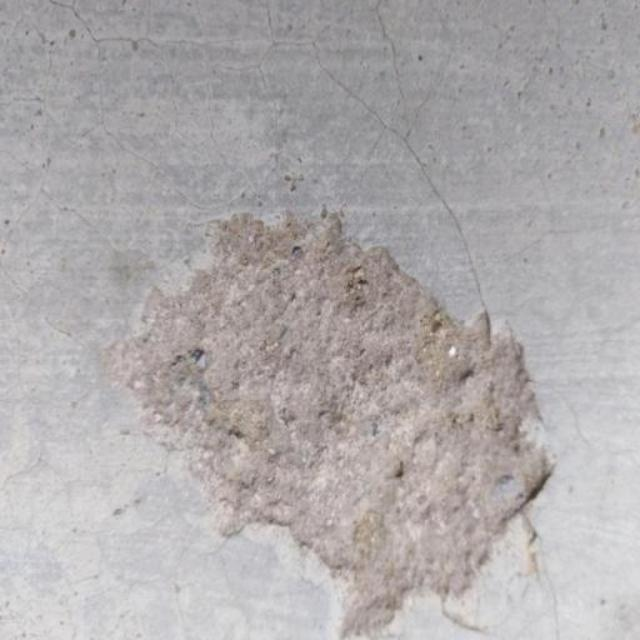D10: (110, 206, 557, 629)
